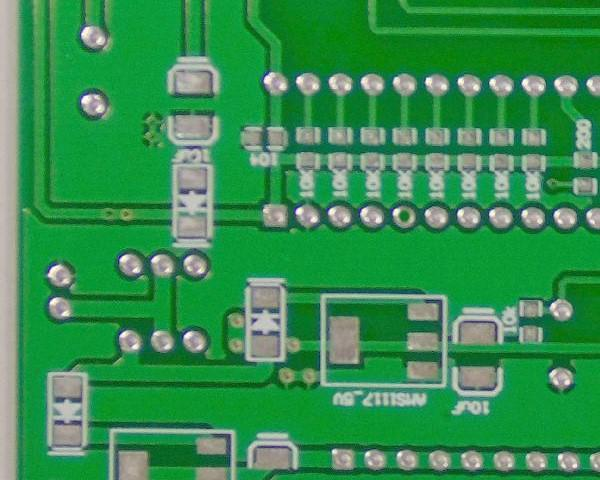missing hole: (388, 199, 421, 233)
